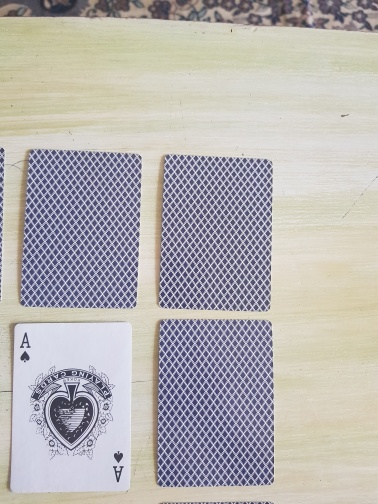ace: (9, 322, 133, 494)
